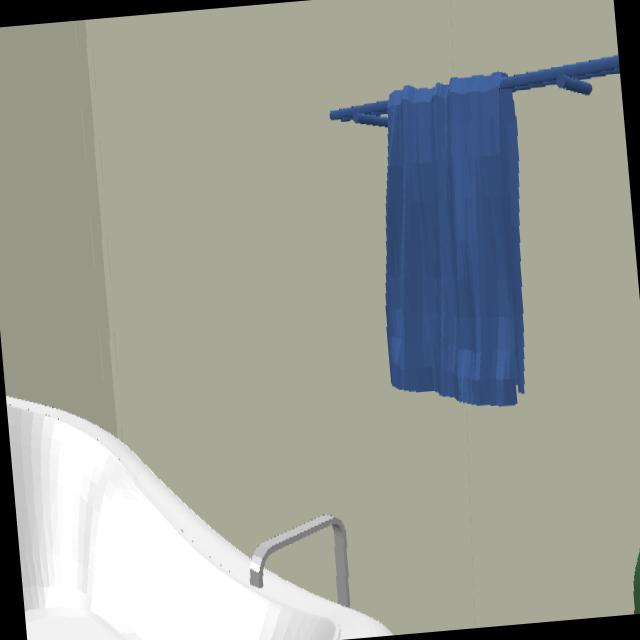bathtube: (5, 396, 393, 640)
